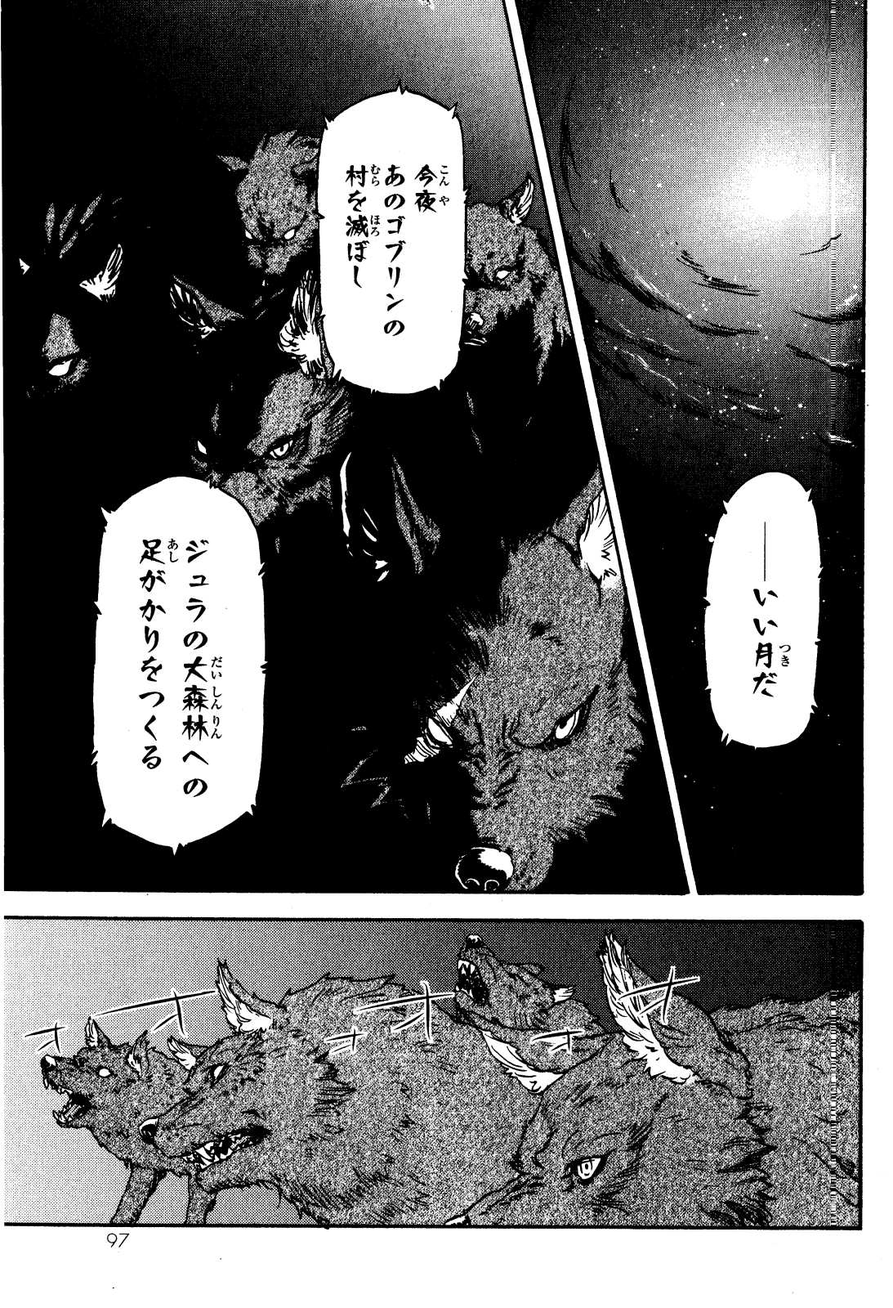bubbles: (83, 464, 271, 856), (312, 83, 467, 401), (699, 467, 828, 756)
